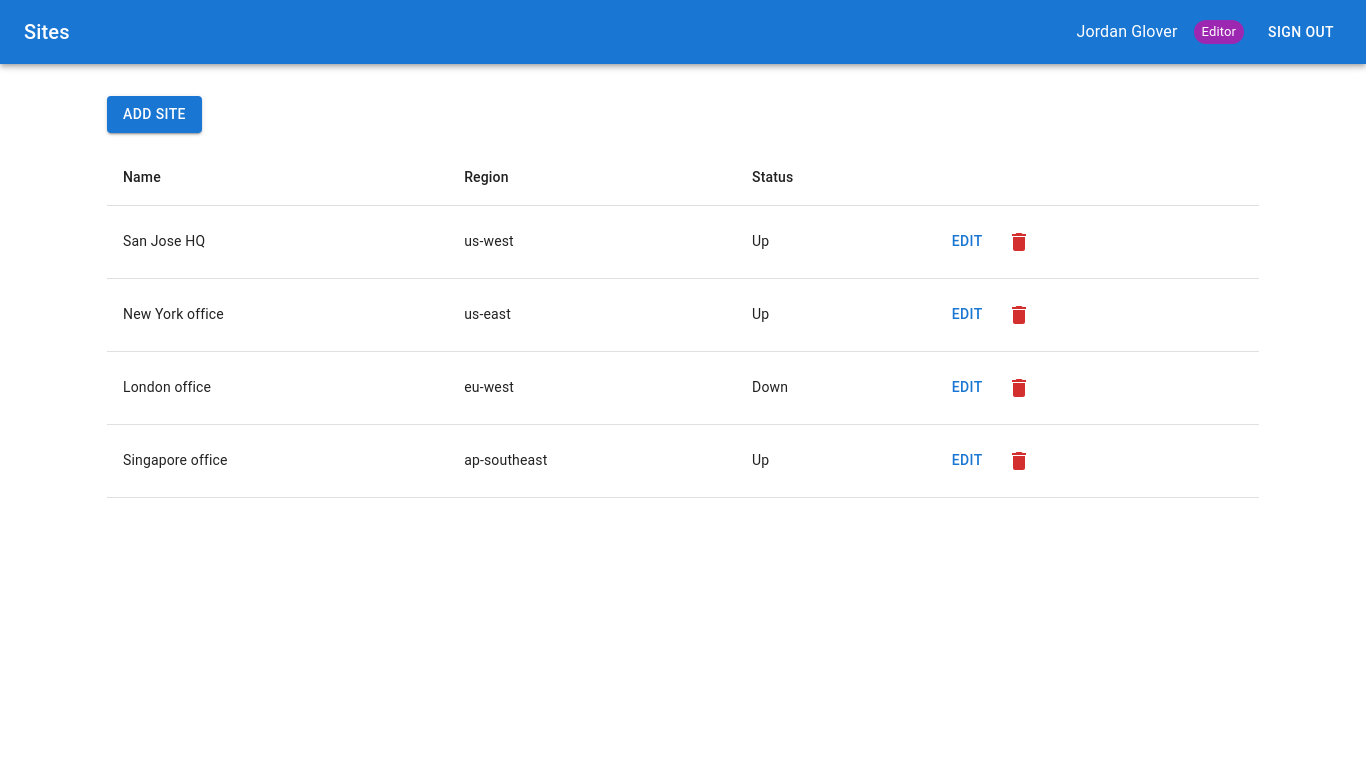
Test: DashboardPage › lets an editor add a site
Step 1. Click the button "Add site" → point(154, 114), box [107,96,202,132]
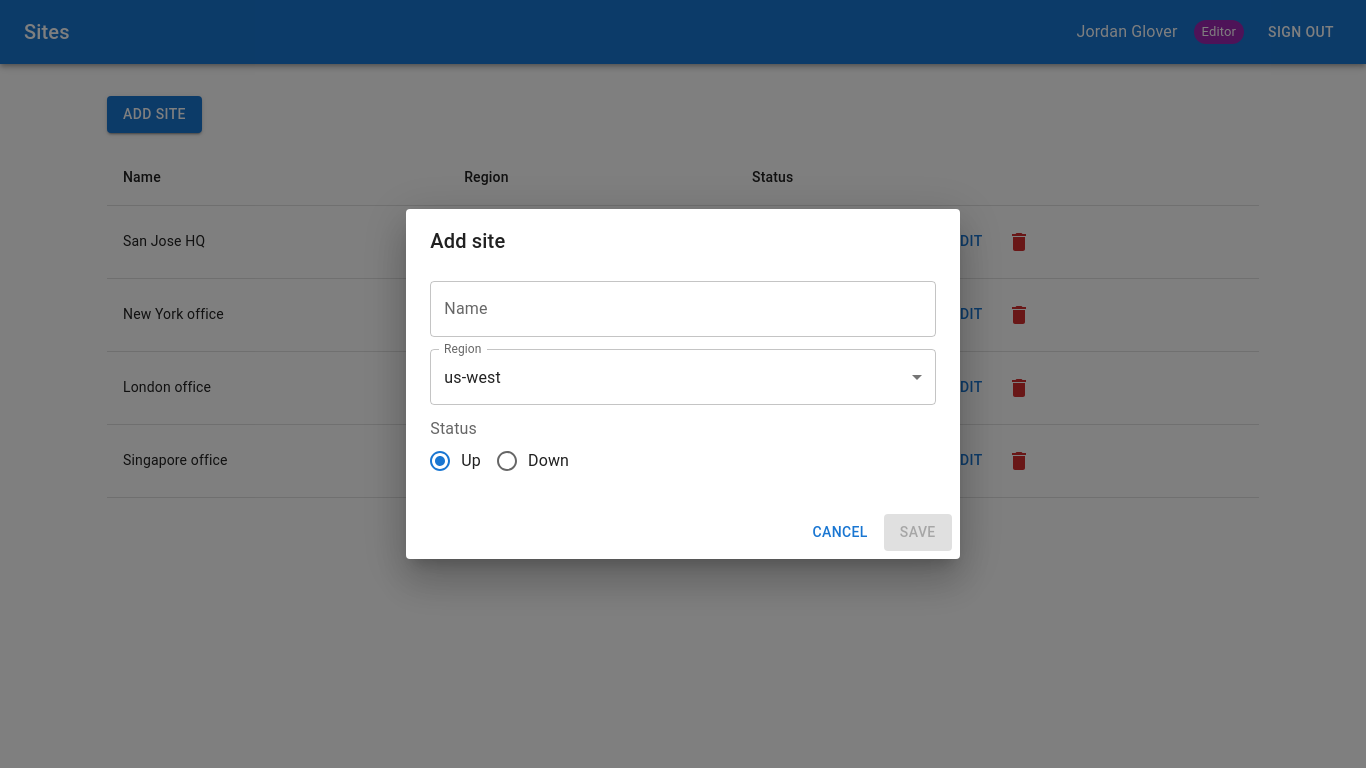
Step 2. Type "Austin office" into the field labelled "Name" → point(683, 309), box [430,281,936,337]
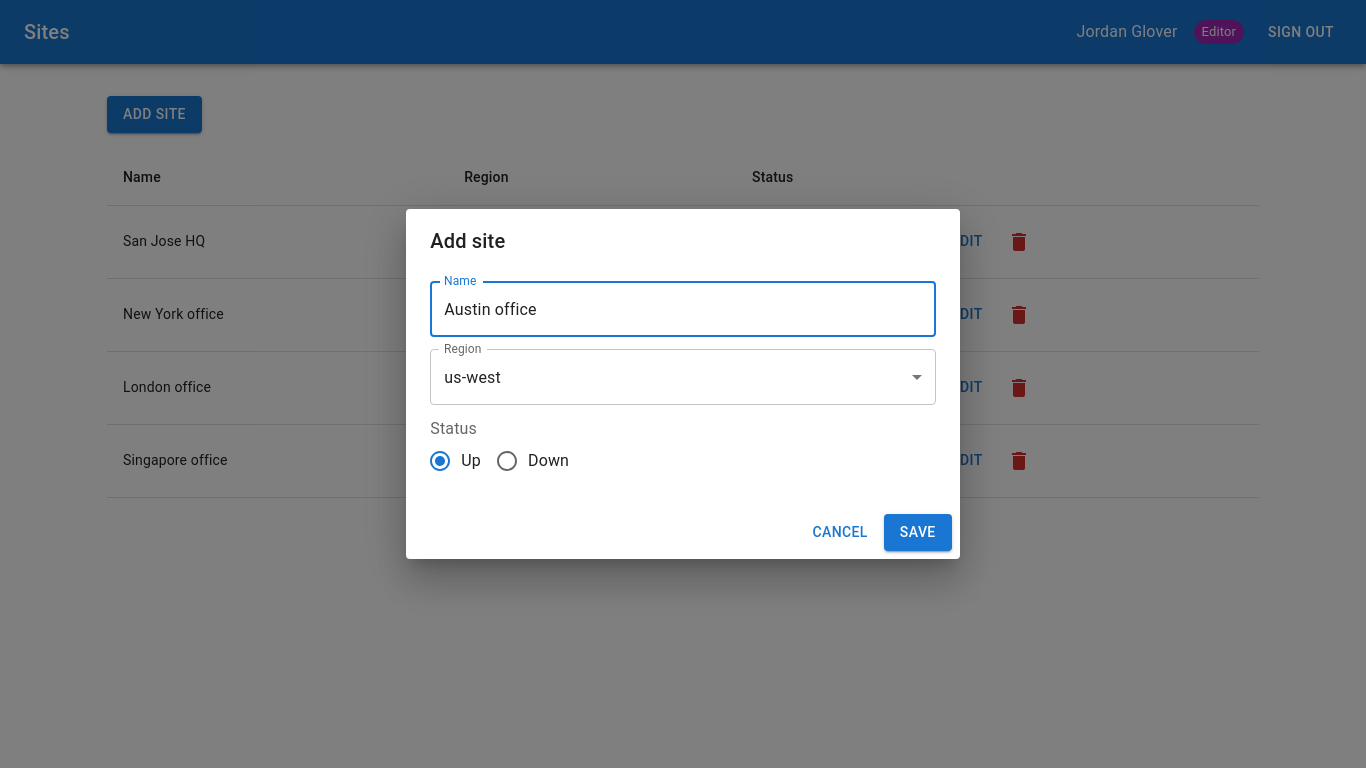
Step 3. Click the button "Save" → point(918, 533), box [884,514,952,551]
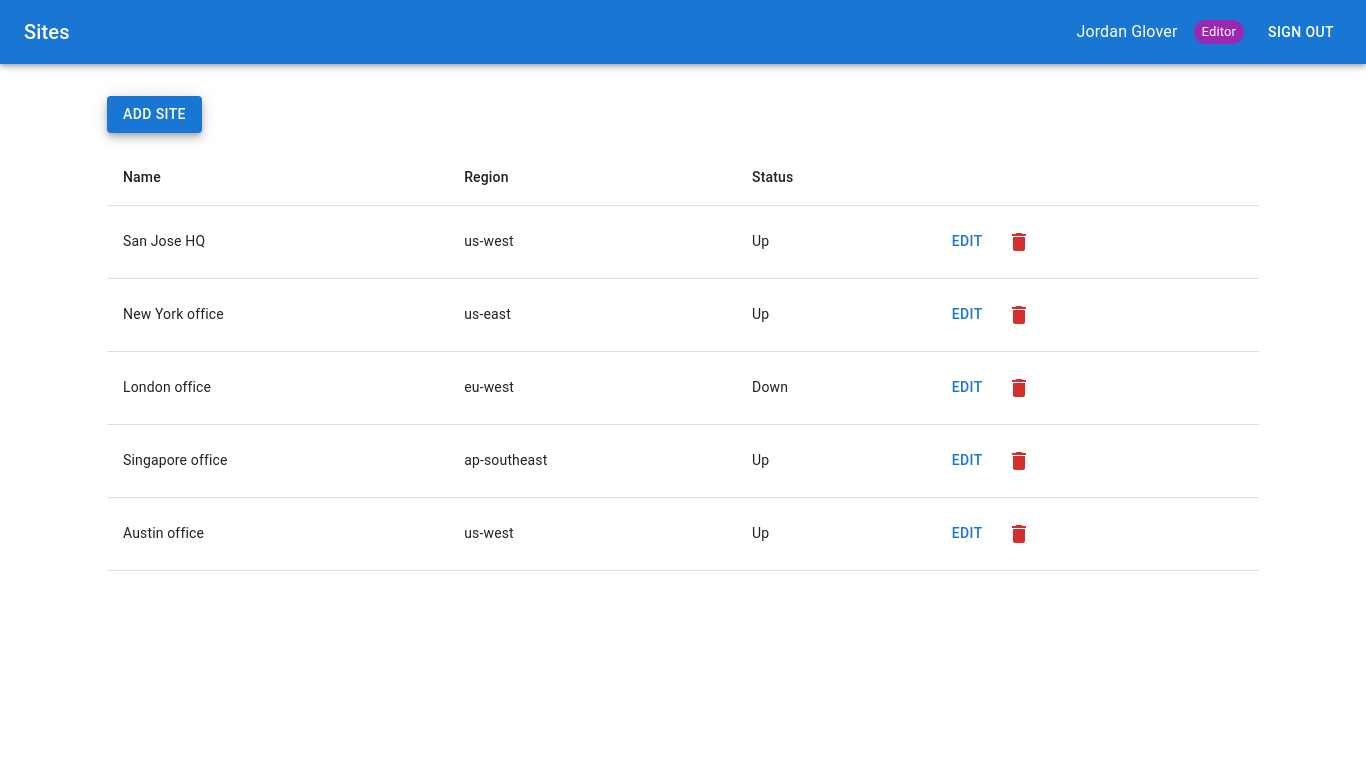
Expected: the text "Austin office" is shown, [107,497,448,570]
